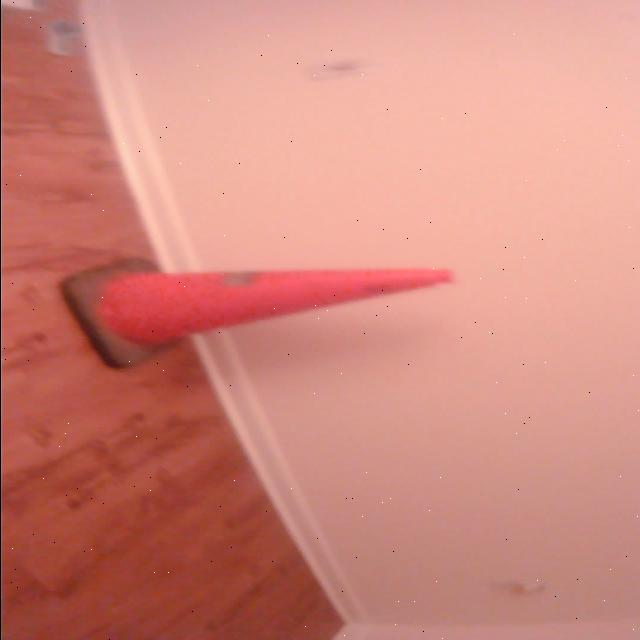traffic cone: (51, 254, 463, 376)
